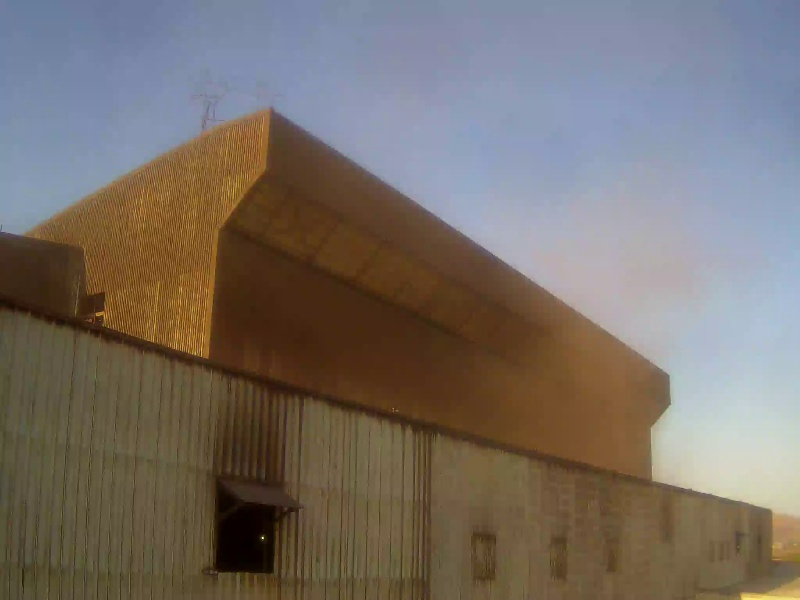Pessimo: (263, 114, 683, 508)
